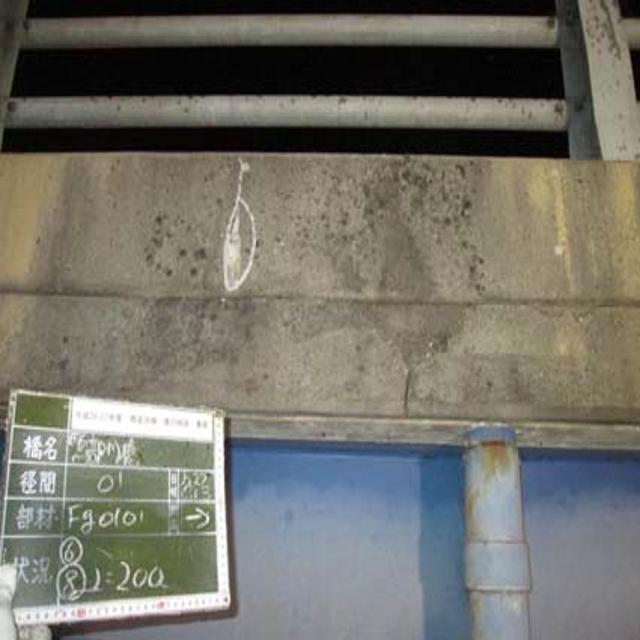corrosion: (467, 427, 554, 516)
freelime: (210, 213, 256, 288)
